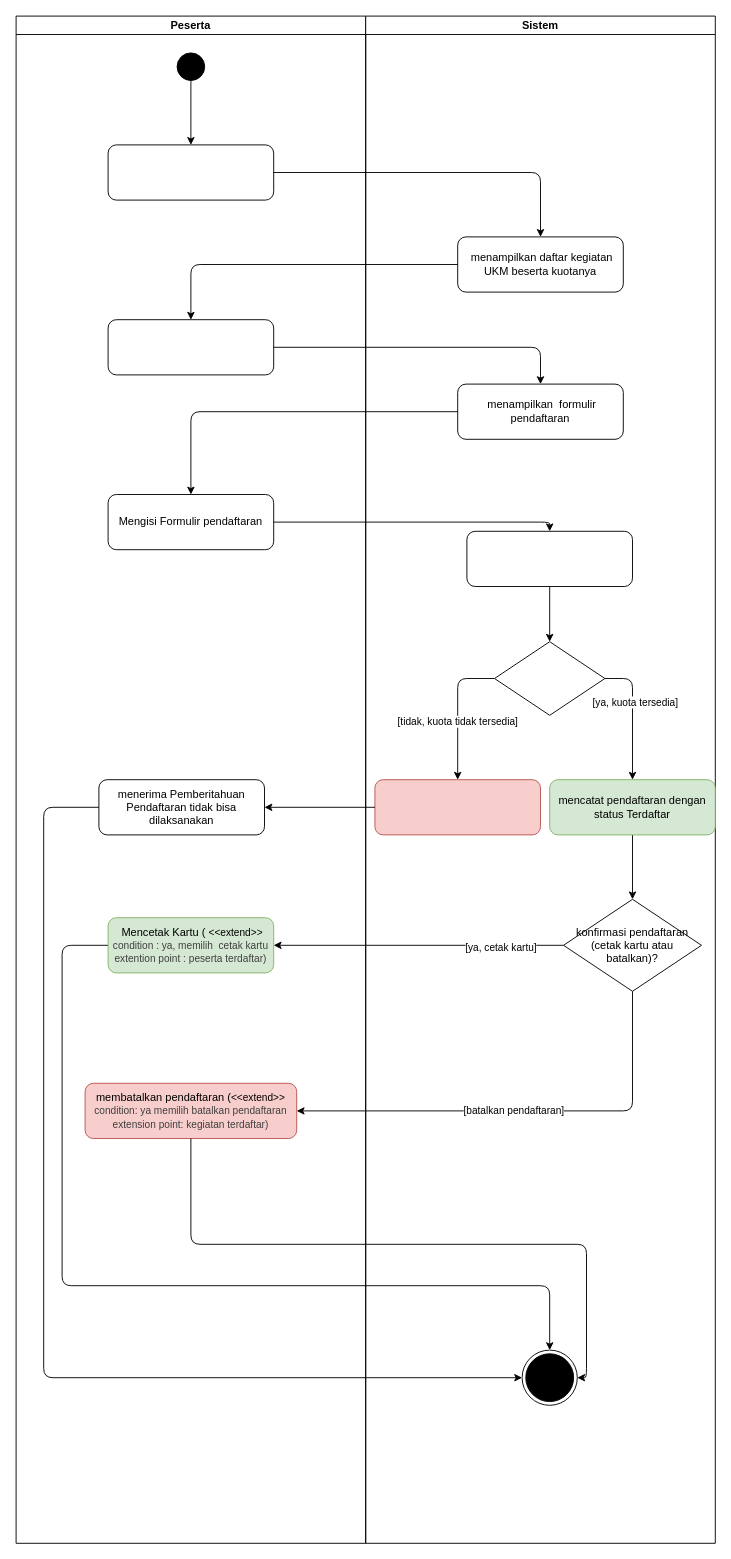
This 731x1559 diagram has some shape labels left out. The shapes that lost their labels are listed below. From the top down, each one's centre as x and y in pixels, then its label:
At (x=190, y=172): "buka fungsi lihat daftar kegiatan".
At (x=190, y=347): "Memilih kegiatan".
At (x=549, y=558): "memeriksa ketersediaan kuota (dari include SIU-UC03)".
At (x=549, y=678): "apakah kuota tersedia?".
At (x=457, y=807): "menampilkan pesan kuota tidak tersedia dan pendaftaran tidak disimpan".
